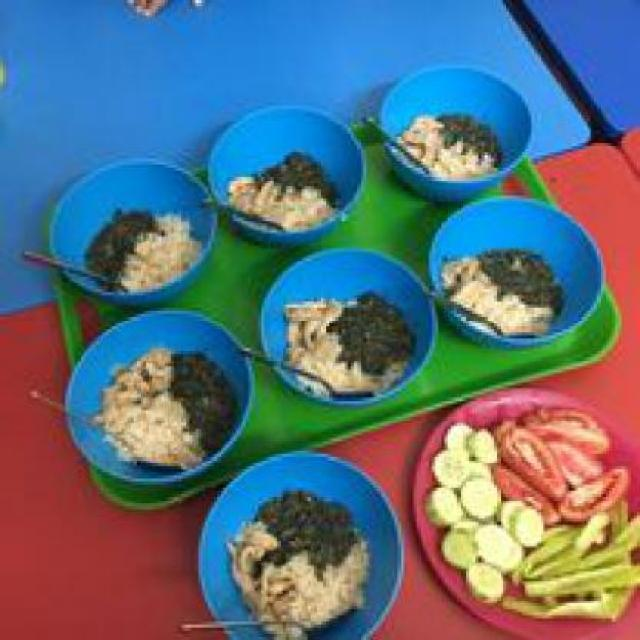fried rice: (236, 186, 342, 392), (236, 534, 361, 624), (93, 351, 184, 466), (434, 258, 494, 342), (140, 214, 195, 283), (394, 112, 444, 171)
molokhia: (246, 484, 352, 550), (171, 344, 237, 448), (335, 279, 417, 361), (78, 211, 139, 283), (488, 238, 563, 296), (261, 142, 333, 184), (447, 102, 491, 147)
